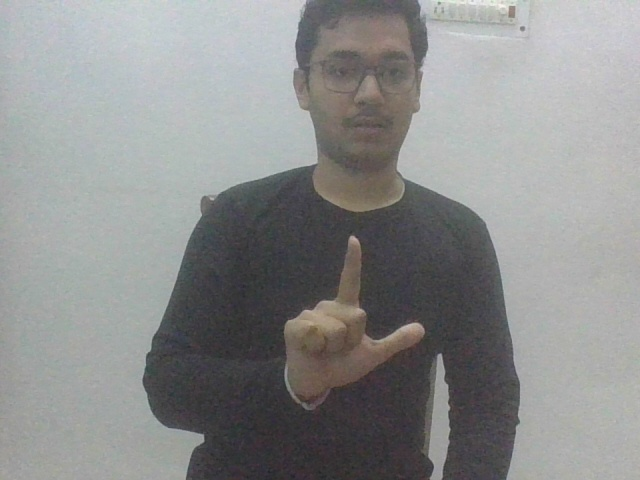L: (276, 230, 426, 412)
